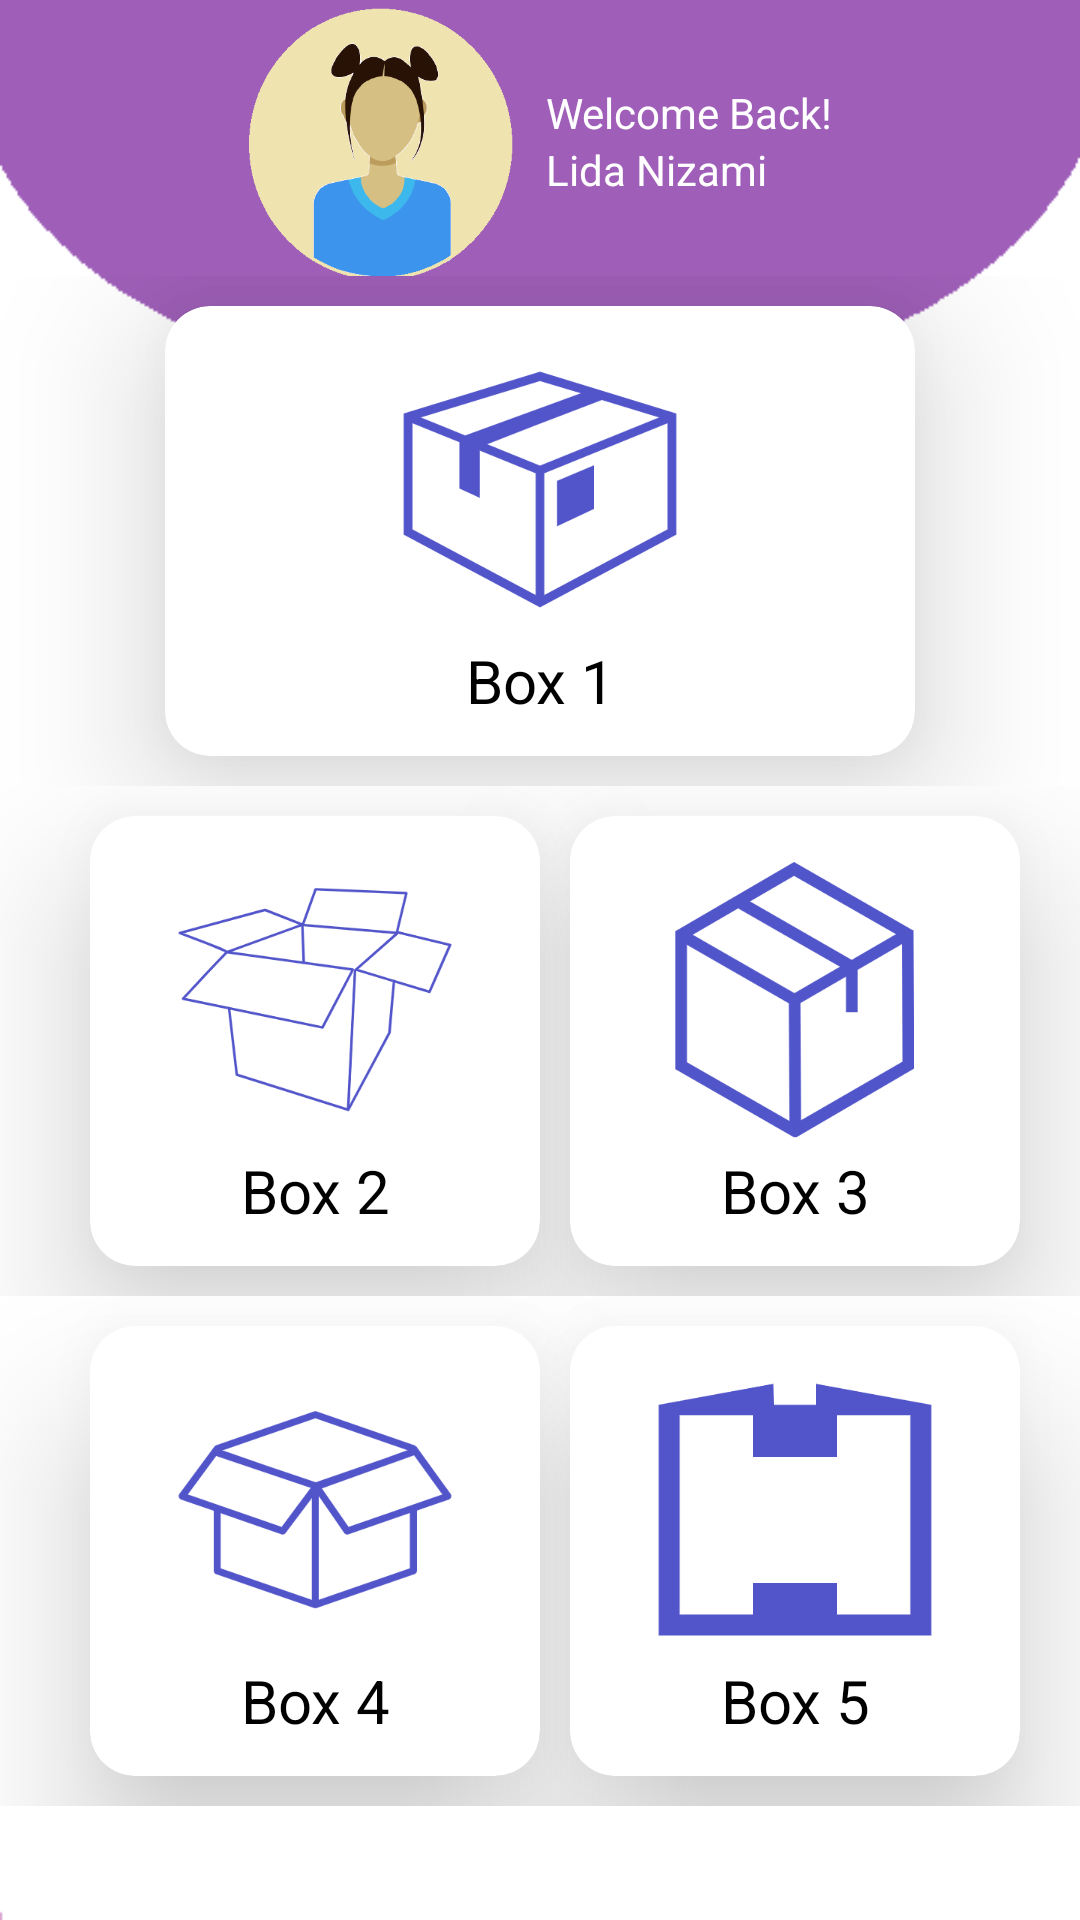

Locate icon controls on the screen. Image size 1080 × 1920, boxes as (x1, y1, x2, y2).
profile: (249, 8, 513, 276)
